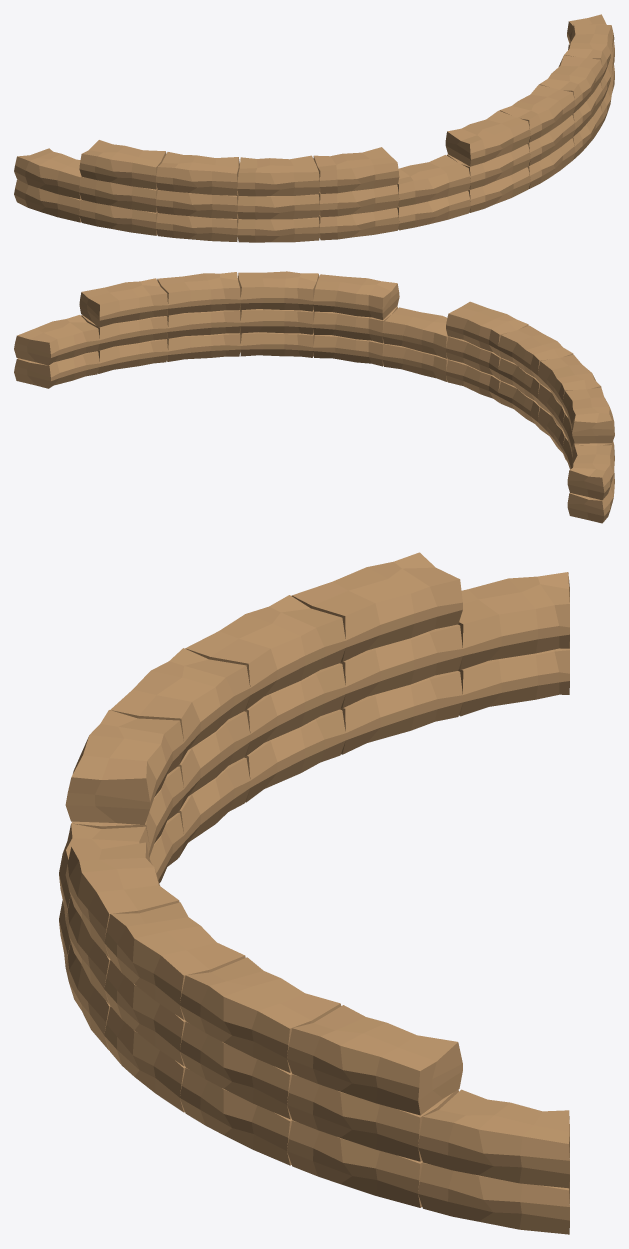
File: SandbagCurvedWallV2.glb
3 views of the same model, one above another, from view 1: azimuth 30°, elevation 25°; view 2: azimuth 150°, elevation 25°; view 3: azimuth 270°, elevation 25° (orthographic). The views are drawn at different scales.
Visible parts, largest first — view 1: SandbagCurvedWallV2; view 2: SandbagCurvedWallV2; view 3: SandbagCurvedWallV2.
Part boxes in pixels (x1,y1,x2,y2): SandbagCurvedWallV2: (14,14,614,242); SandbagCurvedWallV2: (14,271,614,523); SandbagCurvedWallV2: (59,552,569,1234).
Bounding box in the file's own units: 8 × 0.8999 × 3.
1 material, 1 textured.
